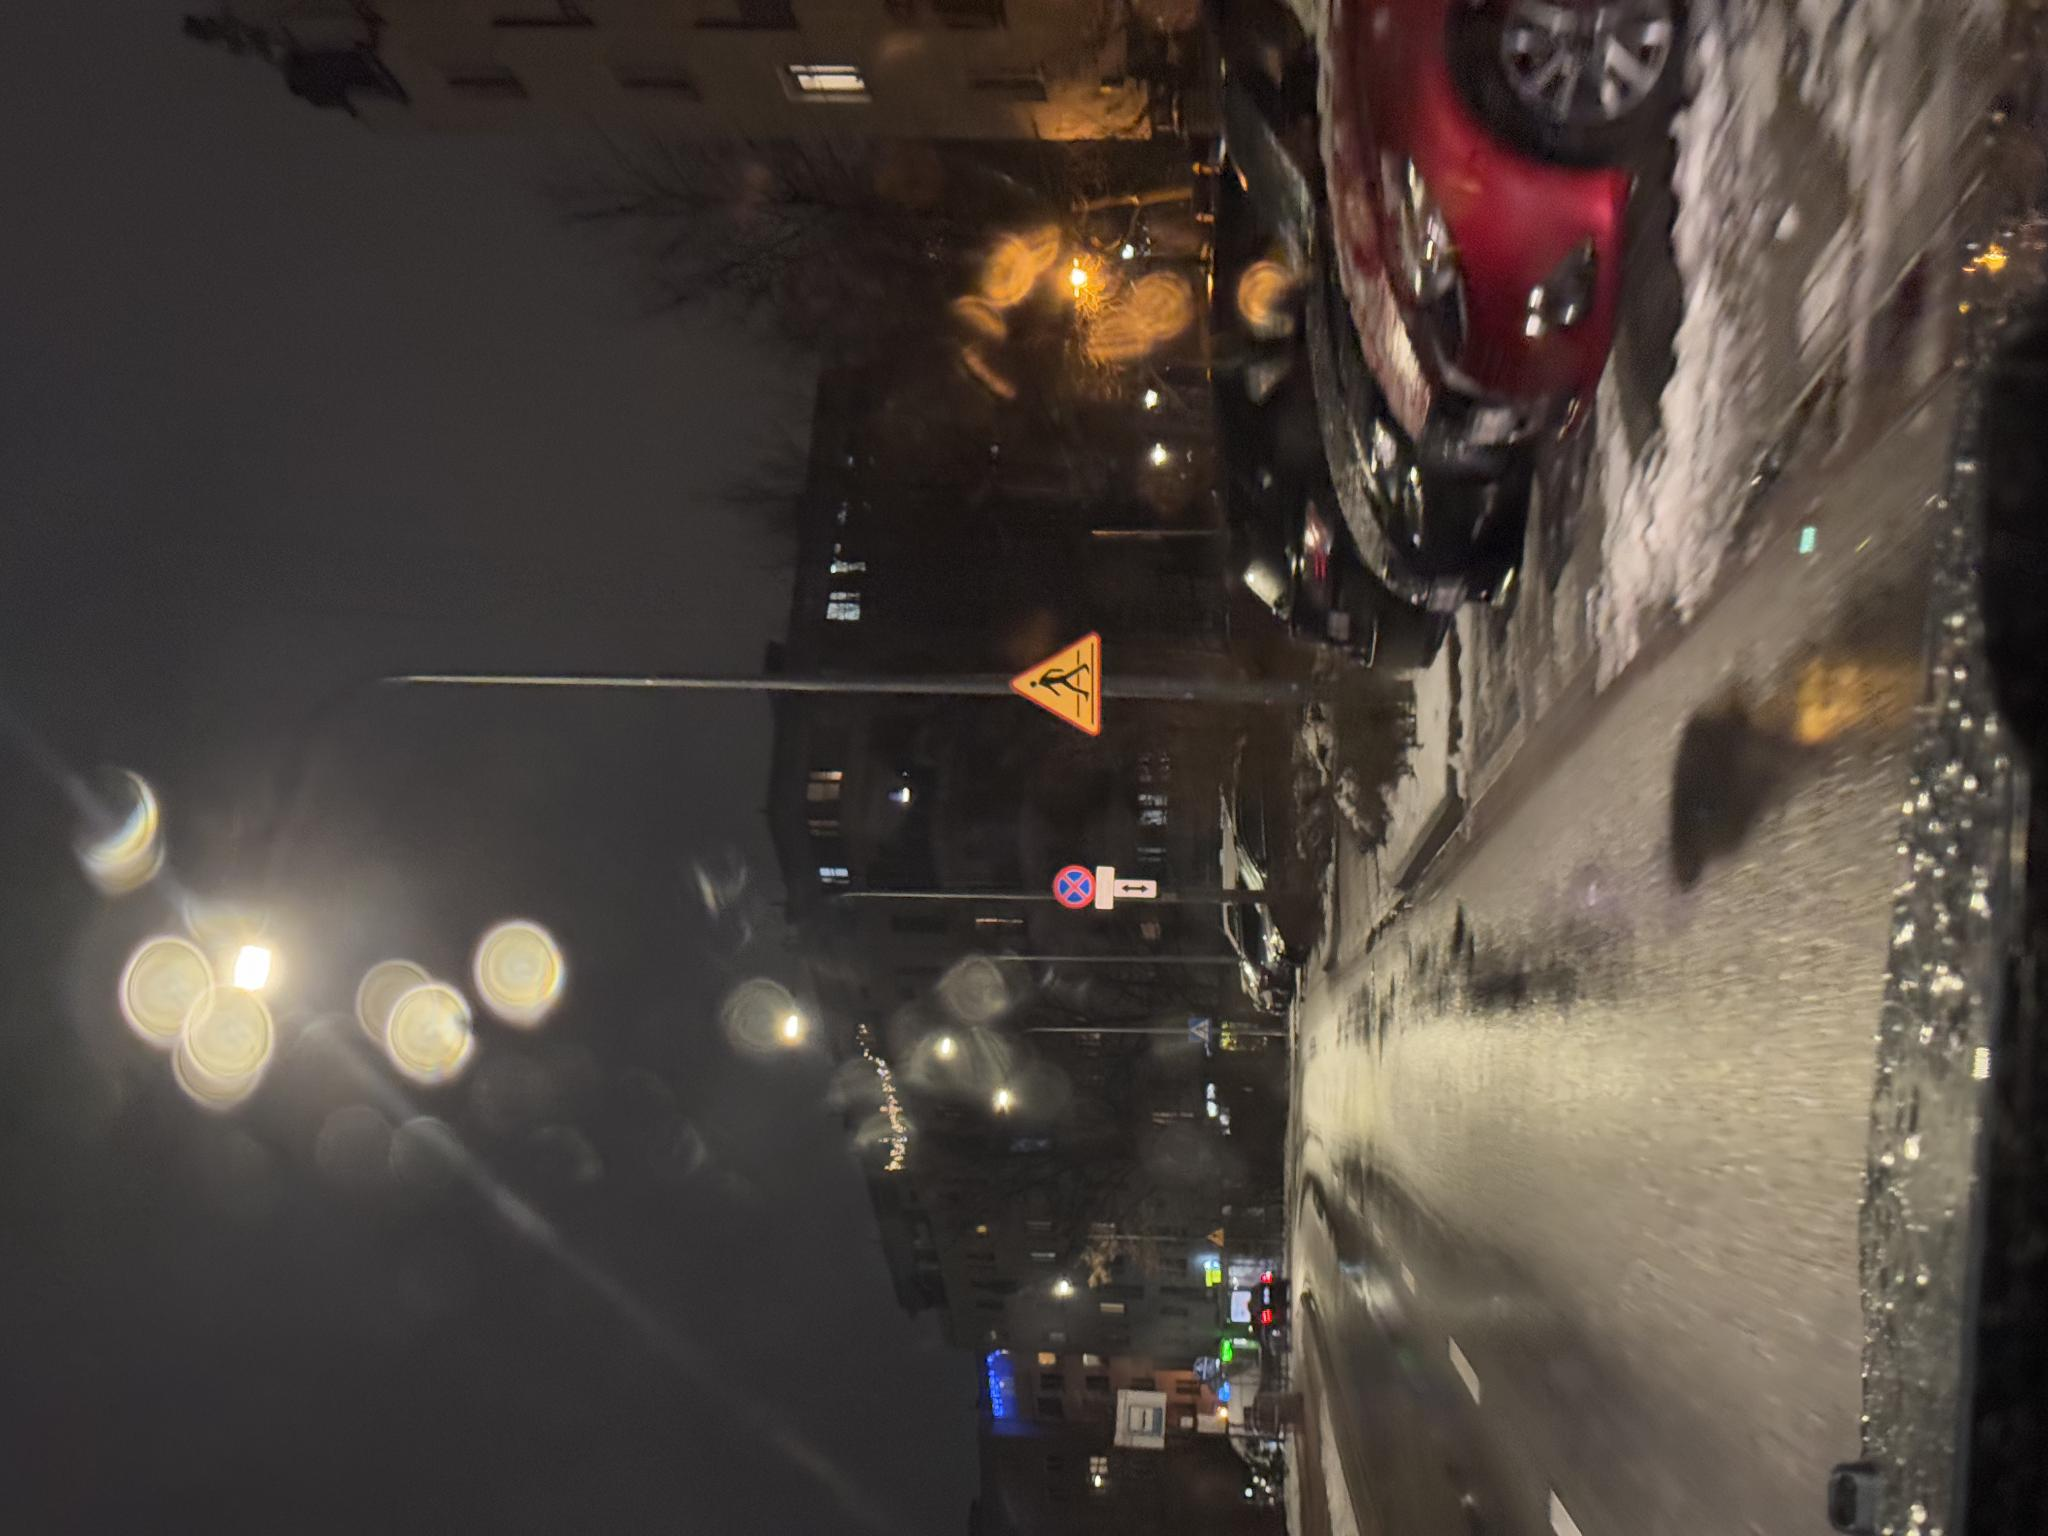information: (102, 1128, 128, 1162), (492, 1189, 518, 1211)
other: (627, 1096, 669, 1114), (638, 1114, 656, 1156)
prohibitory: (626, 1052, 672, 1096)
warning: (800, 1008, 904, 1104), (290, 1206, 308, 1224)
